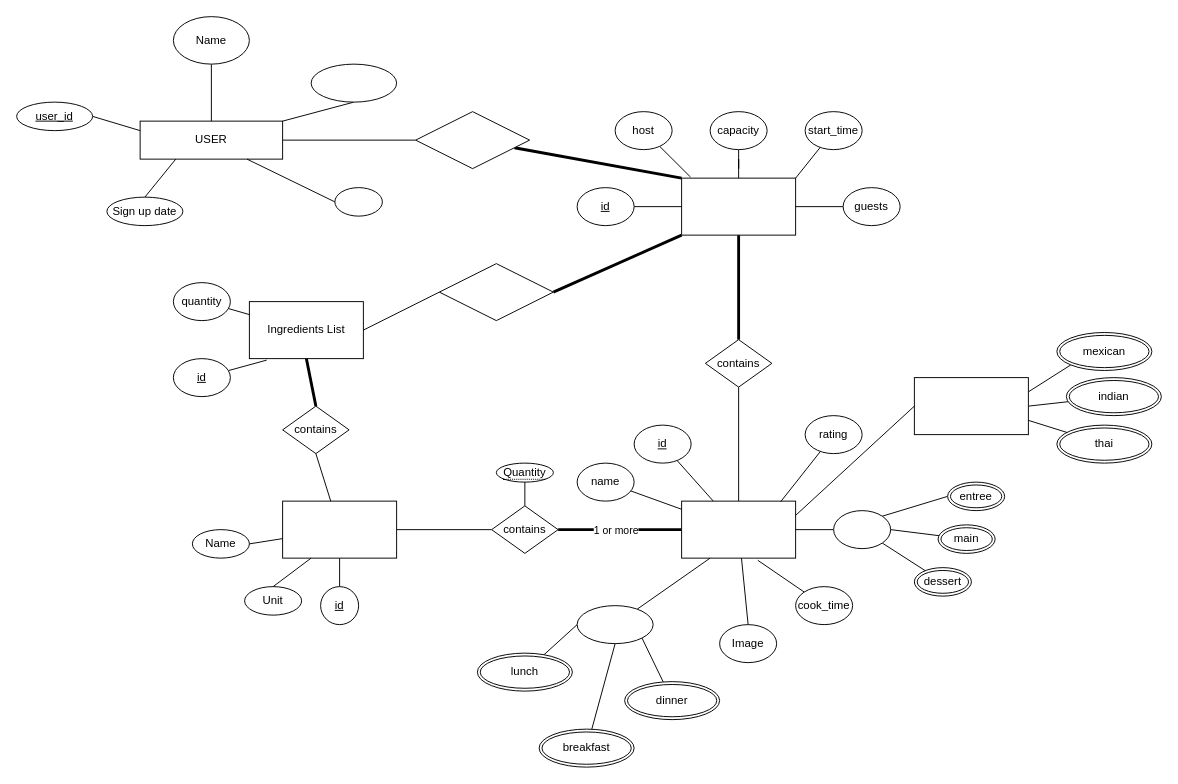
This 1178x784 diagram has some shape labels left out. Each missing label, with the centre of its shape:
course: pixel 862 529
Cuisine: pixel 970 406
Email: pixel 358 201
has: pixel 495 292
has many: pixel 472 140
Hashed Pass: pixel 353 82
Ingredient: pixel 339 529
meal-type: pixel 614 624
Recipes: pixel 738 529
Sessions: pixel 738 206
